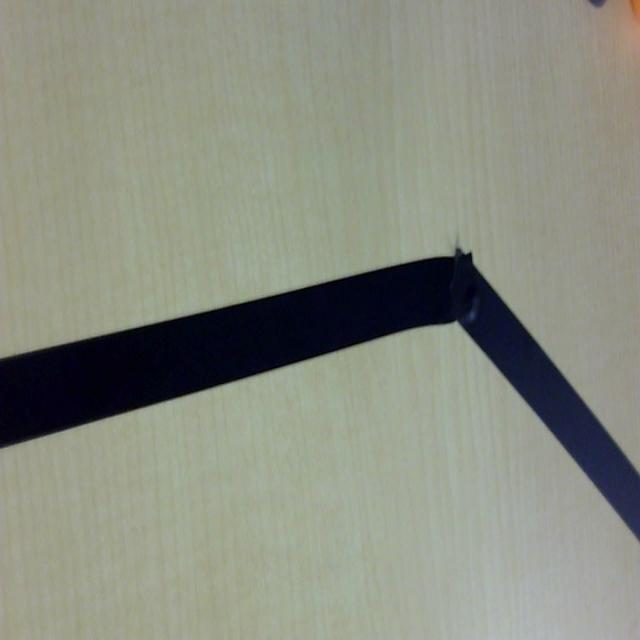tape: (0, 251, 640, 550)
